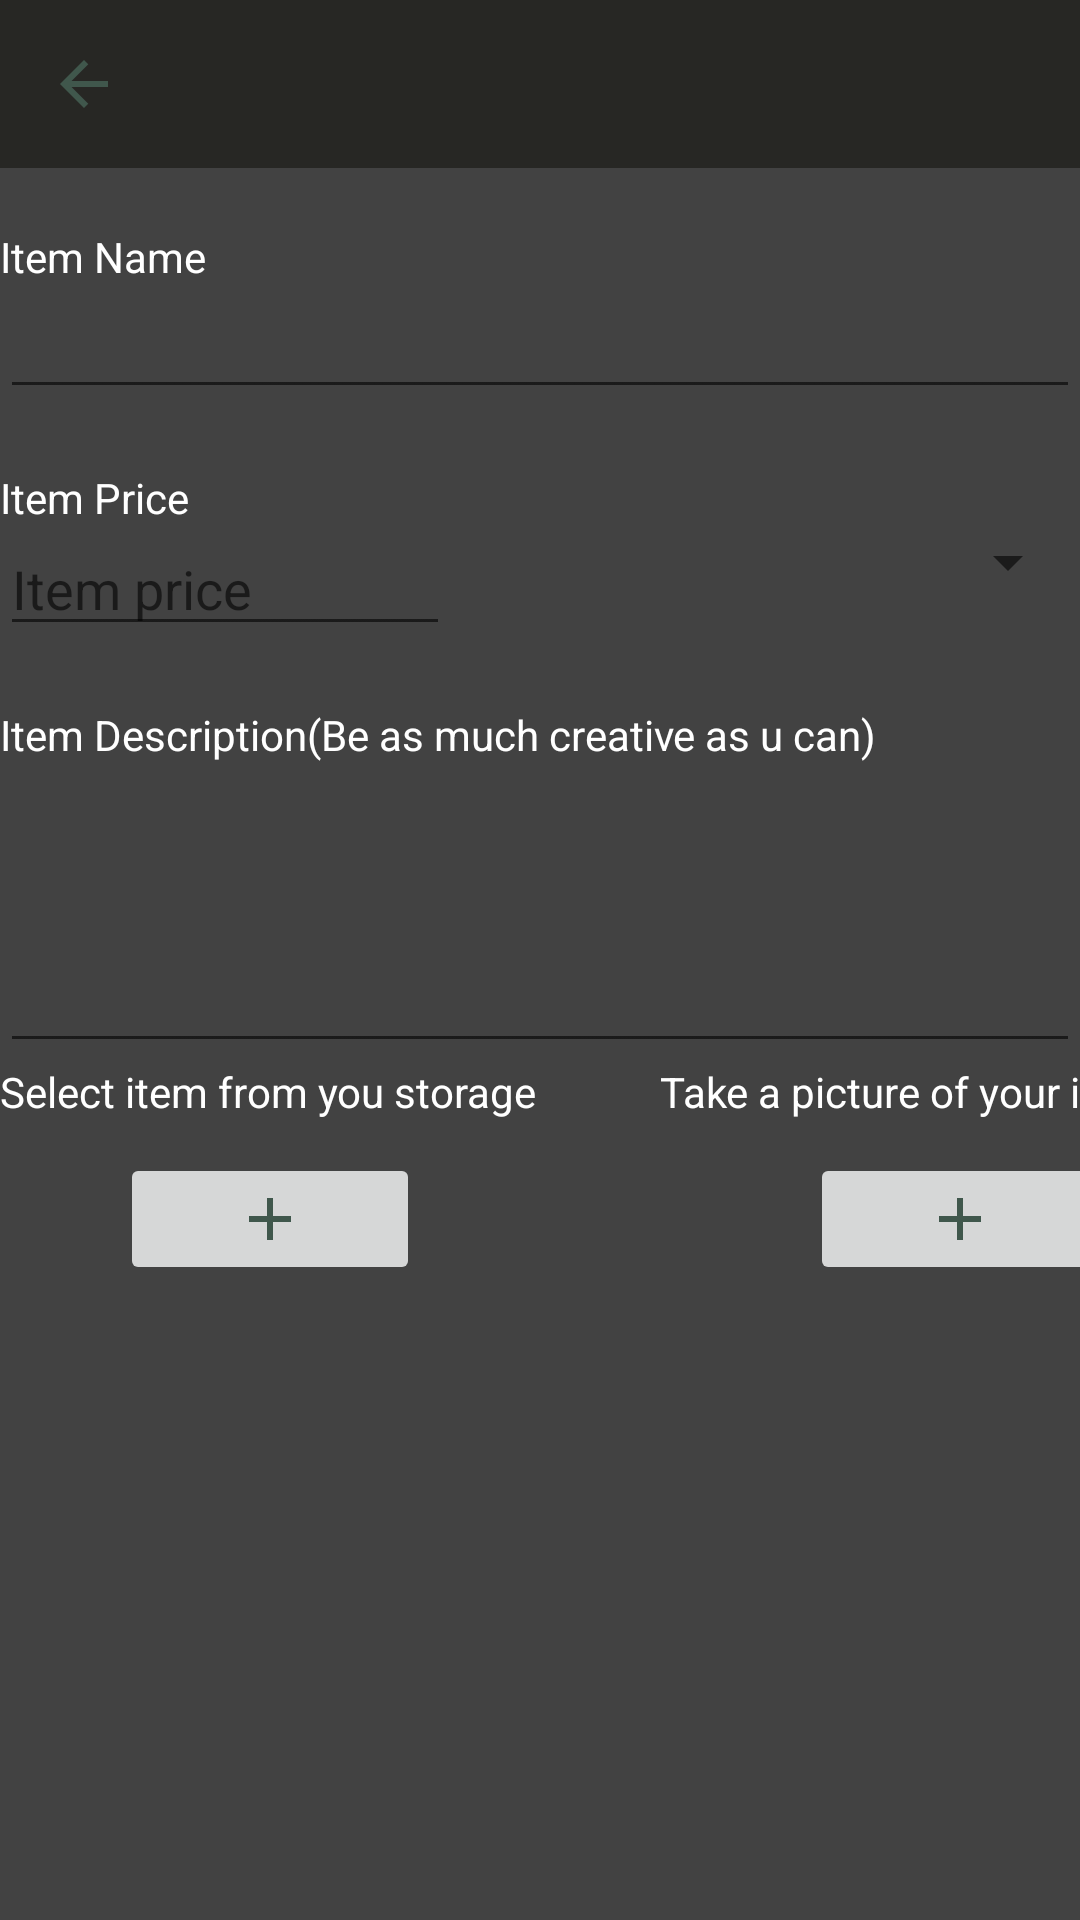

Icons on this 1080 x 1920 Android screen, each with its box as {"x1": x1, "y1": y1, "x2": x2, "y2": y2}:
add: {"x1": 132, "y1": 1171, "x2": 408, "y2": 1267}, {"x1": 822, "y1": 1171, "x2": 1080, "y2": 1267}
